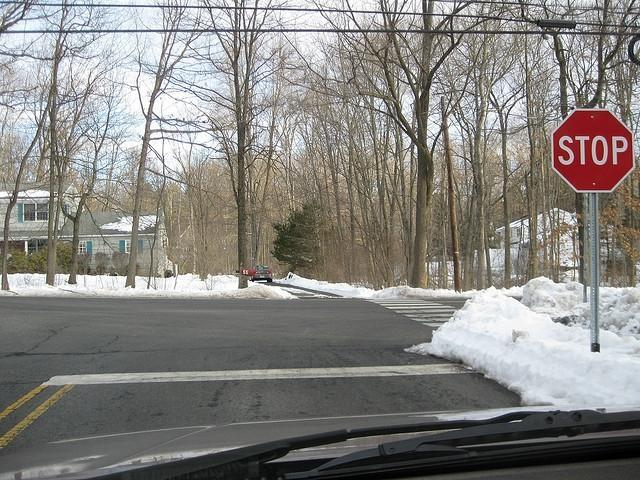car: (1, 406, 640, 474), (252, 264, 272, 282)
